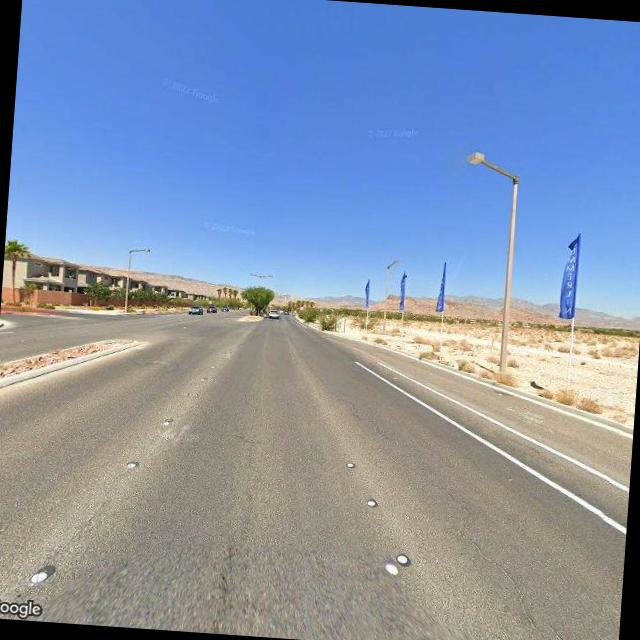pothole: (451, 529, 570, 640)
